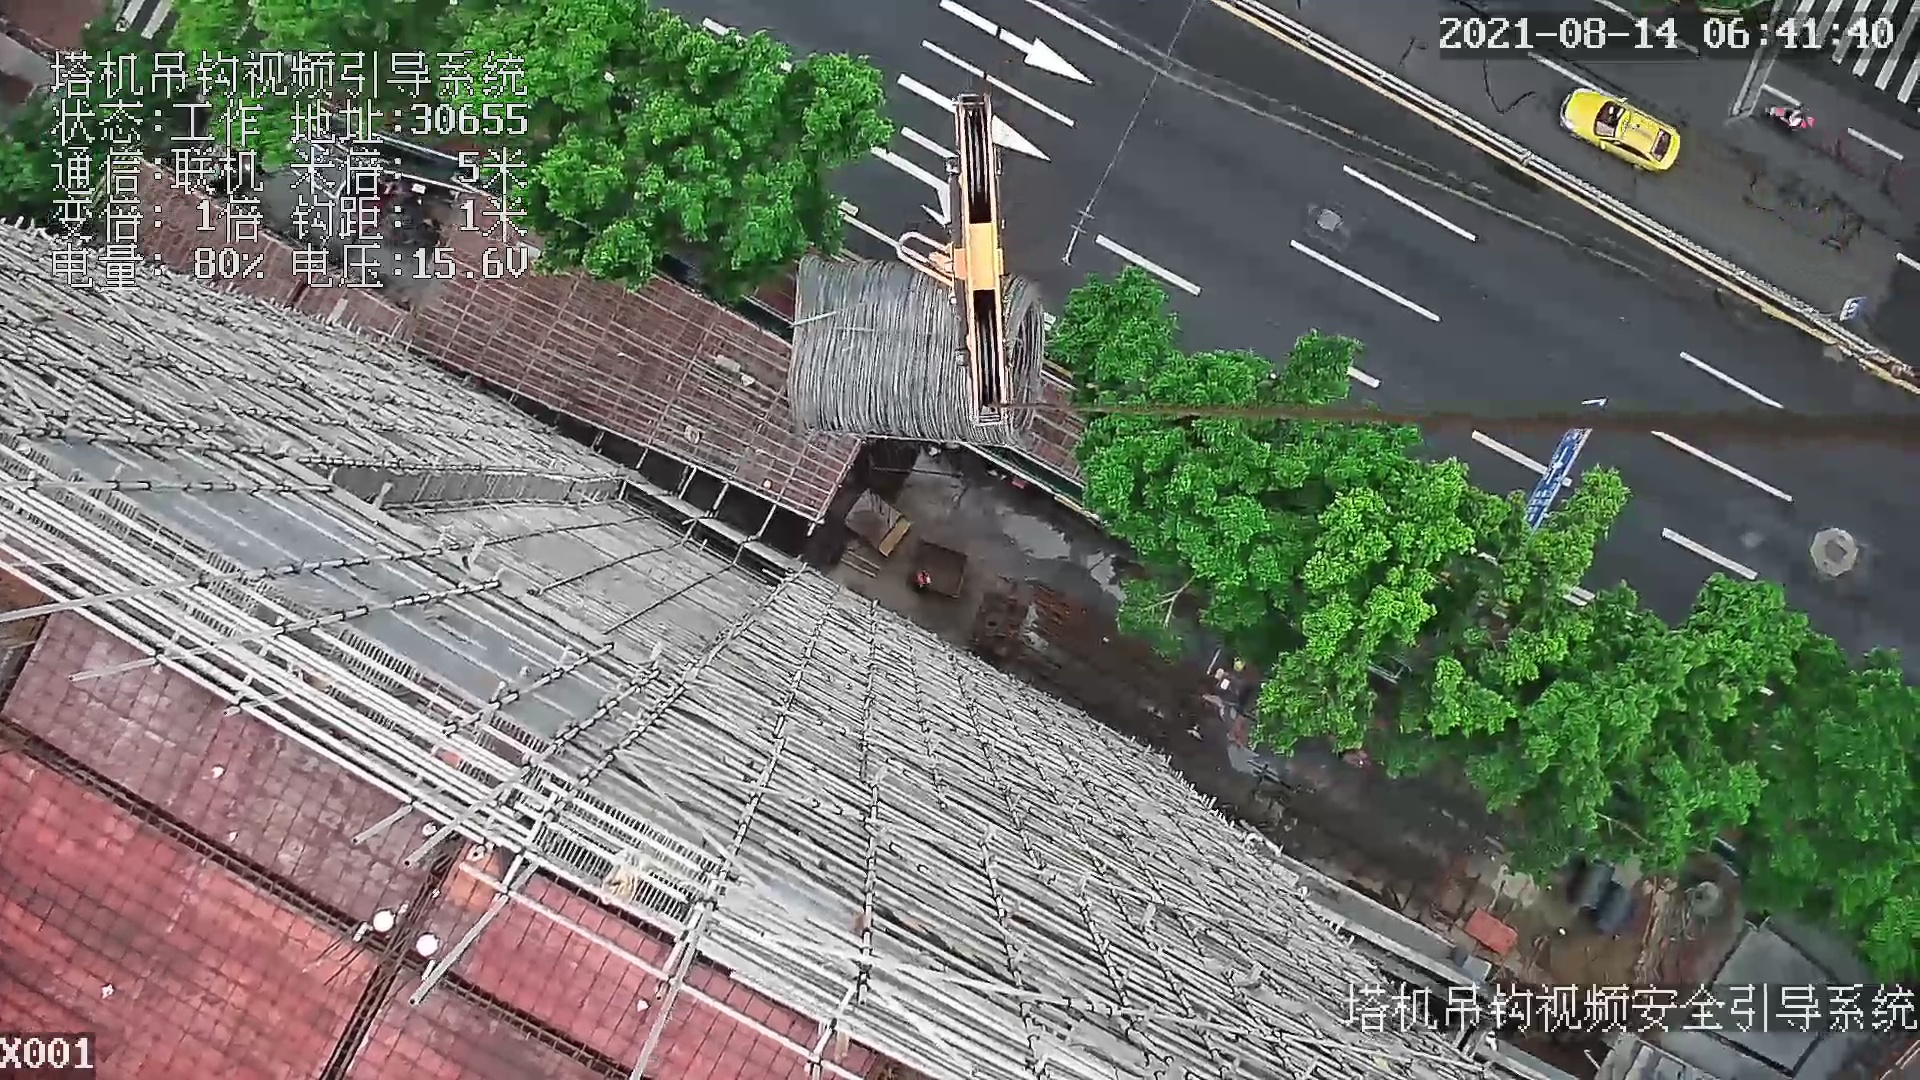hook: (894, 87, 1015, 430)
person: (912, 572, 932, 595)
